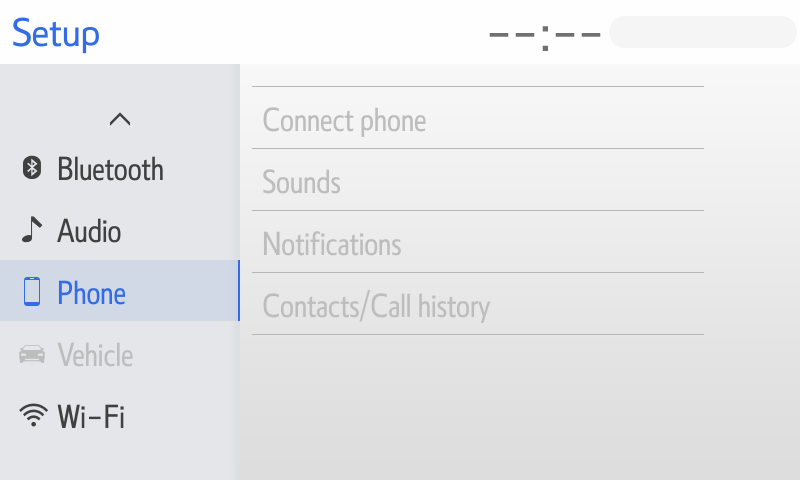touchPart: (20, 150, 174, 191), (19, 401, 138, 445), (21, 217, 119, 246), (102, 102, 140, 138)
untouchPart: (251, 266, 713, 342), (249, 206, 712, 281), (251, 81, 705, 152), (250, 144, 710, 214), (2, 256, 244, 323), (477, 10, 794, 52), (20, 338, 144, 371), (7, 14, 106, 53)
